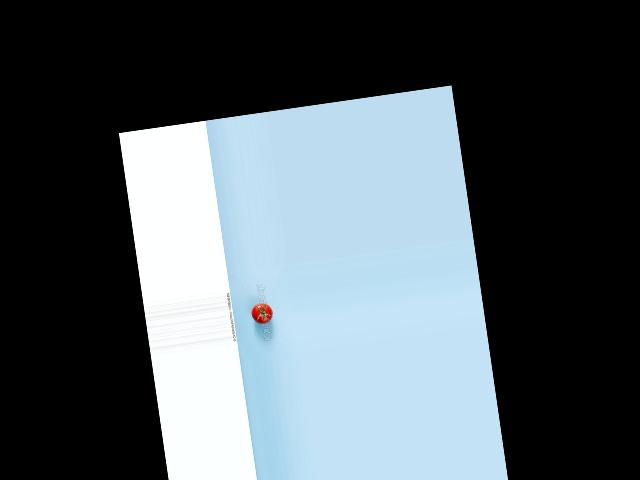tomato: (249, 302, 273, 324)
